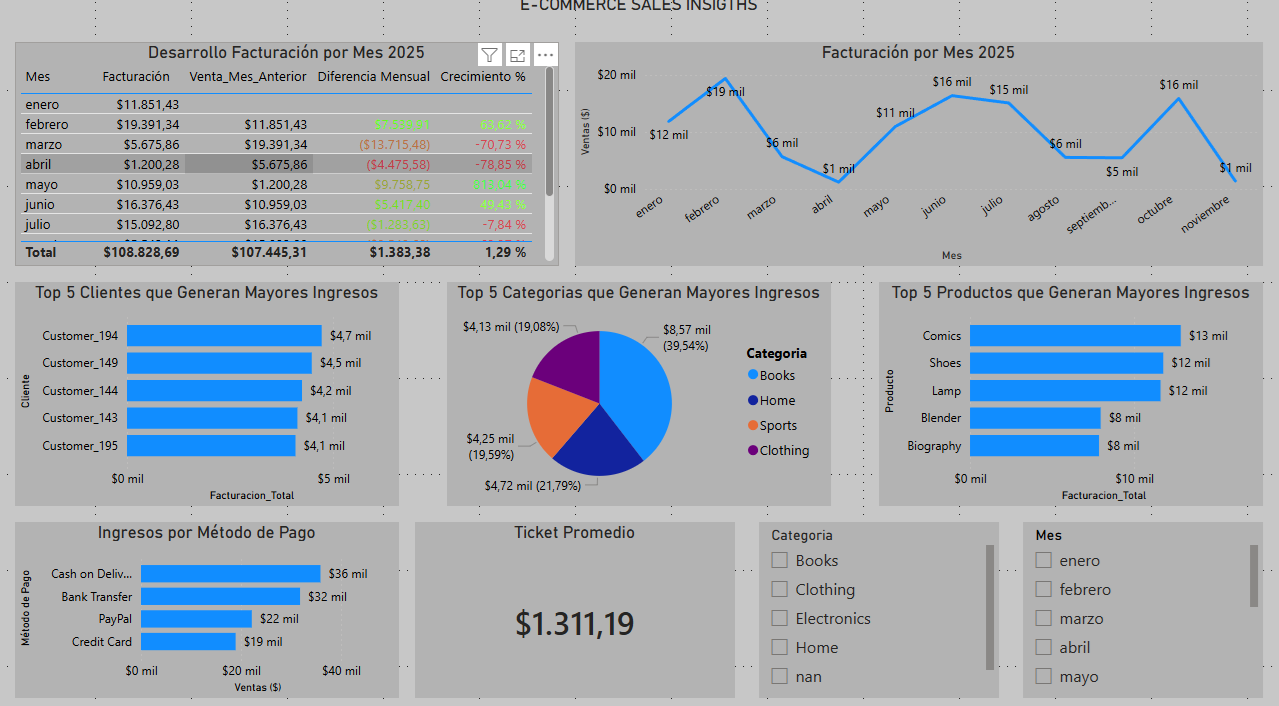

The dashboard page shown, as its layout file describes it:
{"tool":"powerbi","page":{"name":"Página 1","canvas":[1280,720],"ordinal":0},"visuals":[{"type":"lineChart","title":"Facturación por Mes 2025","fields":{"Category":["Calendario.Date.Variación.Jerarquía de fechas.Mes"],"Y":["Medidas_Dax_Ventas.Facturacion_Total"]},"box":[576,48,688,224],"z":0},{"type":"tableEx","title":"Desarrollo Facturación por Mes 2025","fields":{"Values":["Calendario.Date.Variación.Jerarquía de fechas.Mes","Medidas_Dax_Ventas.Facturacion_Total","Medidas_Dax_Ventas.Venta_Mes_Anterior","Medidas_Dax_Ventas.Diferencia_Mensual_Ventas","Medidas_Dax_Ventas.Crecimieto_Mensual_%"]},"box":[16,48,544,224],"z":1000},{"type":"pieChart","title":"Top 5 Categorias que Generan Mayores Ingresos","fields":{"Y":["Medidas_Dax_Ventas.Facturacion_Total"],"Category":["ecommerce_sales vw_ventas_analisis.Categoria"]},"box":[448,288,384,224],"z":2000},{"type":"clusteredBarChart","title":"Top 5 Productos que Generan Mayores Ingresos","fields":{"Category":["ecommerce_sales vw_ventas_analisis.Producto"],"Y":["Medidas_Dax_Ventas.Facturacion_Total"]},"box":[880,288,384,224],"z":3000},{"type":"clusteredBarChart","title":"Top 5 Clientes que Generan Mayores Ingresos","fields":{"Category":["ecommerce_sales vw_ventas_analisis.Cliente"],"Y":["Medidas_Dax_Ventas.Facturacion_Total"]},"box":[16,288,384,224],"z":4000},{"type":"clusteredBarChart","title":"Ingresos por Método de Pago","fields":{"Category":["ecommerce_sales vw_ventas_analisis.Metodo_Pago"],"Y":["Medidas_Dax_Ventas.Facturacion_Total"]},"box":[16,528,384,176],"z":5000},{"type":"slicer","fields":{"Values":["ecommerce_sales vw_ventas_analisis.Categoria"]},"box":[760,528,240,176],"z":6000},{"type":"slicer","fields":{"Values":["Calendario.Date.Variación.Jerarquía de fechas.Mes"]},"box":[1024,528,240,176],"z":7000},{"type":"shape","title":"E-COMMERCE SALES INSIGTHS","box":[16,0,1248,48],"z":8000},{"type":"cardVisual","title":"Ticket Promedio","fields":{"Data":["Medidas_Dax_Ventas.Ticket_Promedio"]},"box":[416,528,320,176],"z":8001}]}

Visuals, with their boxes in screenshot pixels (x1, y1, x2, y2), scaled from the page's 1280x720 canvas onto the 1279x706 screenshot:
"Facturación por Mes 2025" lineChart: pyautogui.locateOnScreen(576, 47, 1263, 267)
"Desarrollo Facturación por Mes 2025" tableEx: pyautogui.locateOnScreen(16, 47, 560, 267)
"Top 5 Categorias que Generan Mayores Ingresos" pieChart: pyautogui.locateOnScreen(448, 282, 831, 502)
"Top 5 Productos que Generan Mayores Ingresos" clusteredBarChart: pyautogui.locateOnScreen(879, 282, 1263, 502)
"Top 5 Clientes que Generan Mayores Ingresos" clusteredBarChart: pyautogui.locateOnScreen(16, 282, 400, 502)
"Ingresos por Método de Pago" clusteredBarChart: pyautogui.locateOnScreen(16, 518, 400, 690)
slicer - ecommerce_sales vw_ventas_analisis.Categoria: pyautogui.locateOnScreen(759, 518, 999, 690)
slicer - Calendario.Date.Variación.Jerarquía de fechas.Mes: pyautogui.locateOnScreen(1023, 518, 1263, 690)
"E-COMMERCE SALES INSIGTHS" shape: pyautogui.locateOnScreen(16, 0, 1263, 47)
"Ticket Promedio" cardVisual: pyautogui.locateOnScreen(416, 518, 735, 690)
